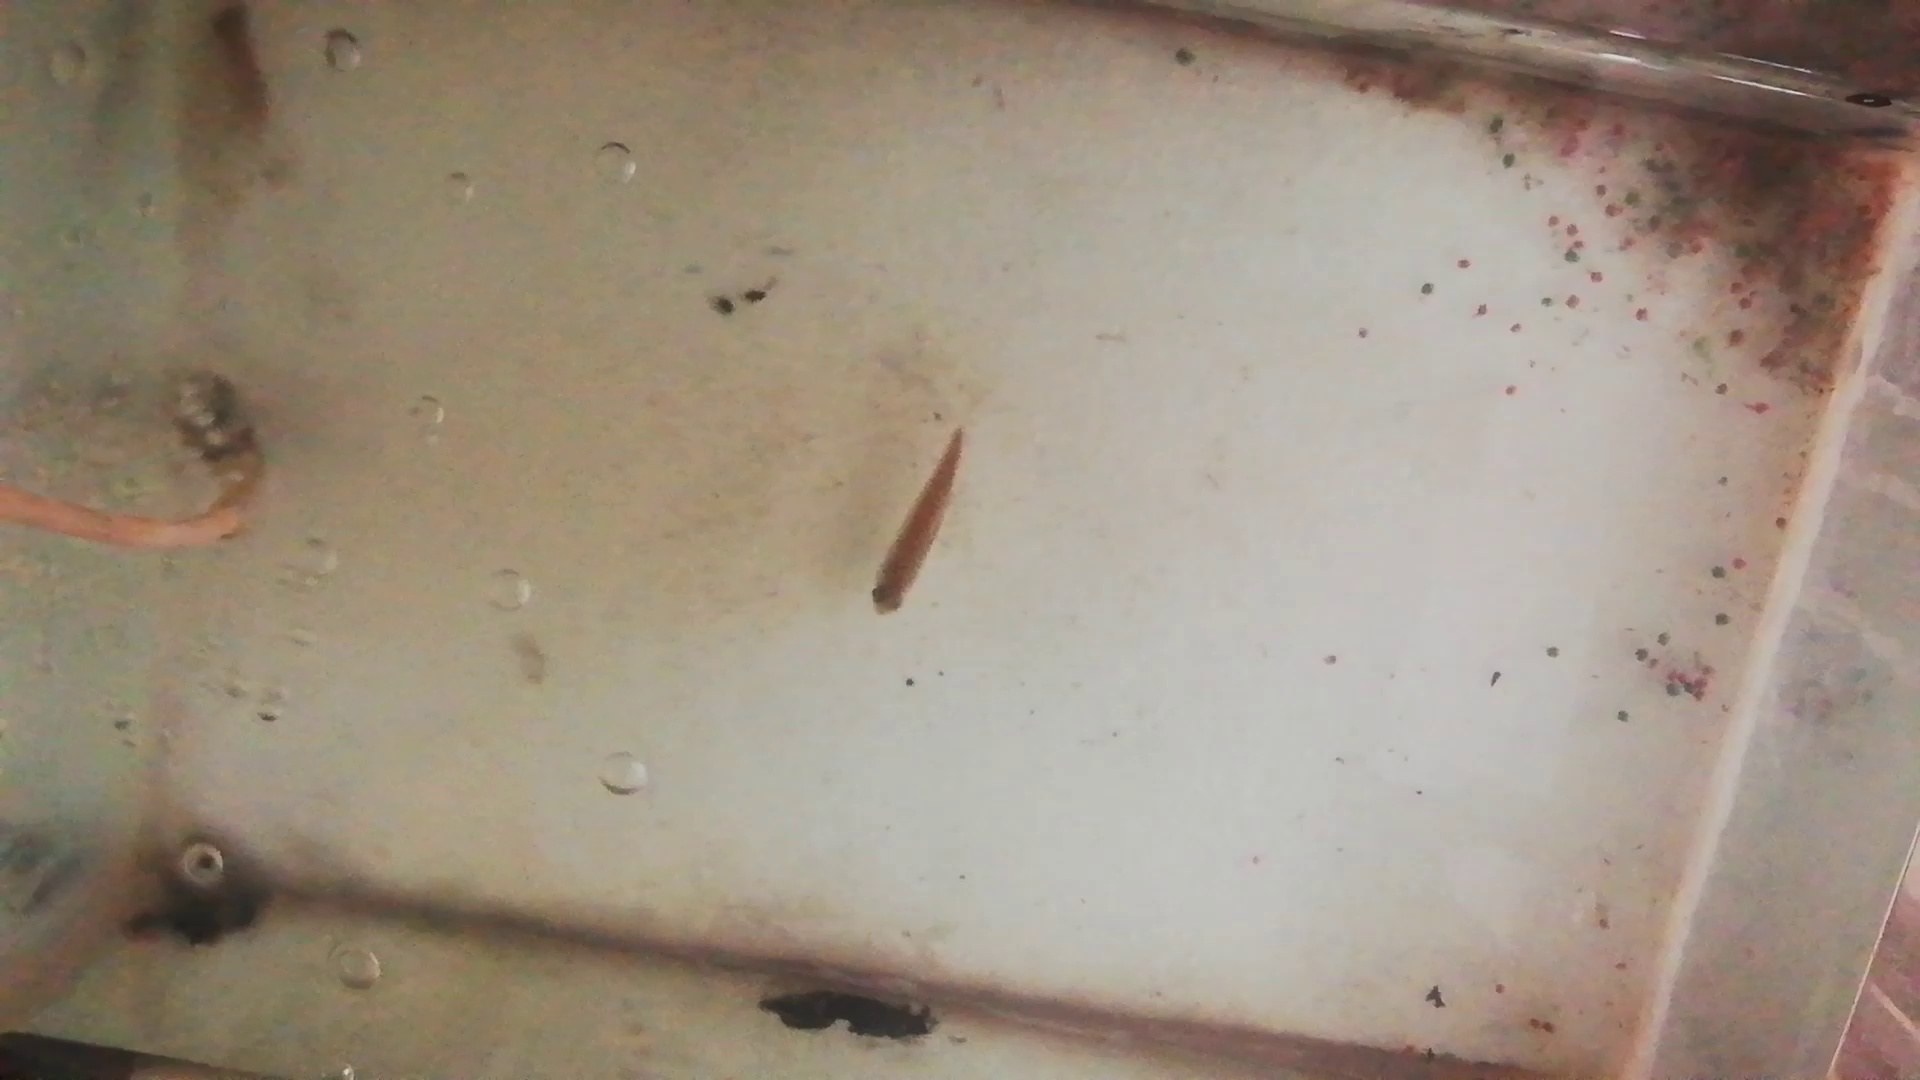fish: (864, 426, 967, 618), (214, 1, 280, 132)
